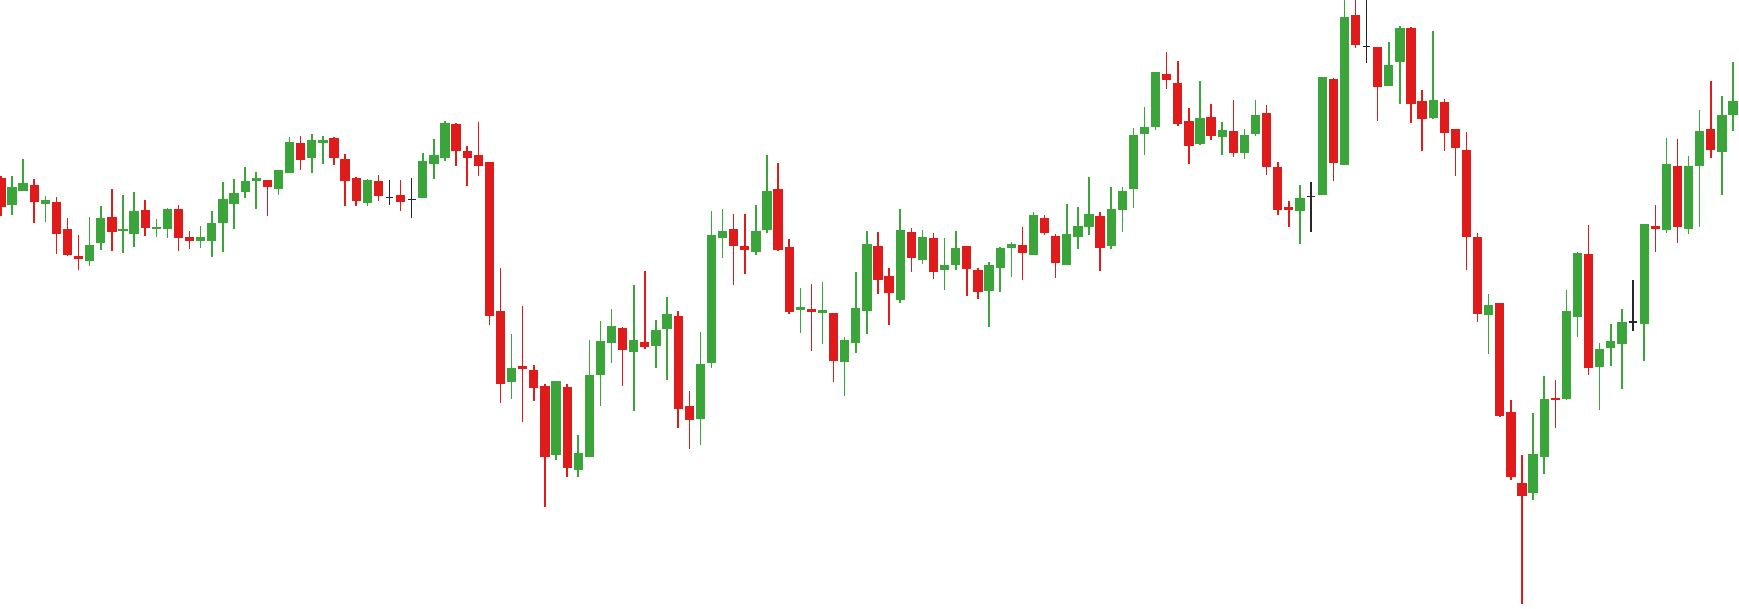buy: (630, 303, 706, 453)
sell: (1163, 9, 1383, 155), (318, 115, 462, 184)
